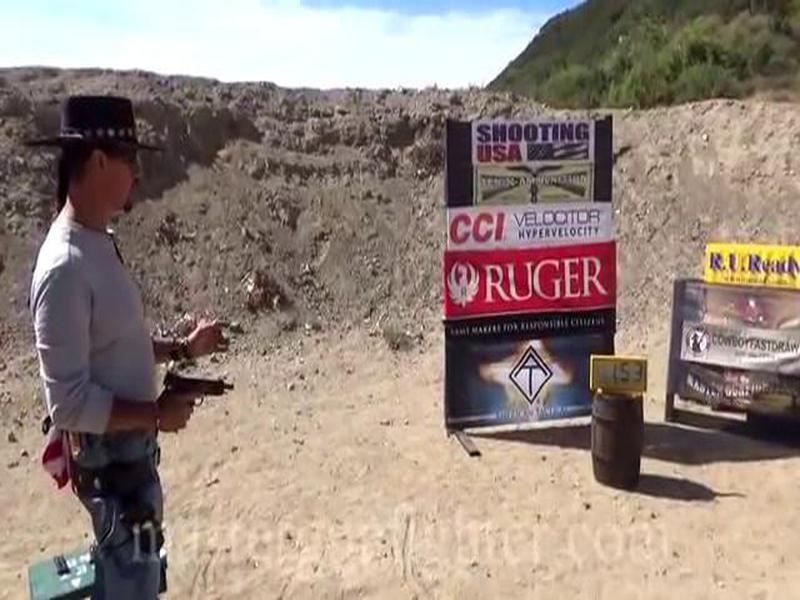Pistola: (148, 361, 252, 440)
